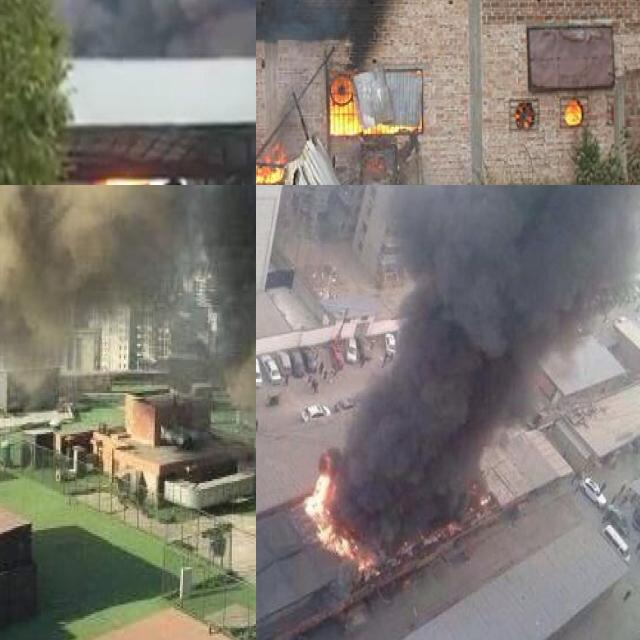fire: (302, 461, 378, 572), (328, 76, 356, 132), (256, 145, 286, 185), (558, 95, 583, 125)
smoke: (328, 185, 640, 544), (0, 185, 256, 466), (58, 0, 256, 51)
